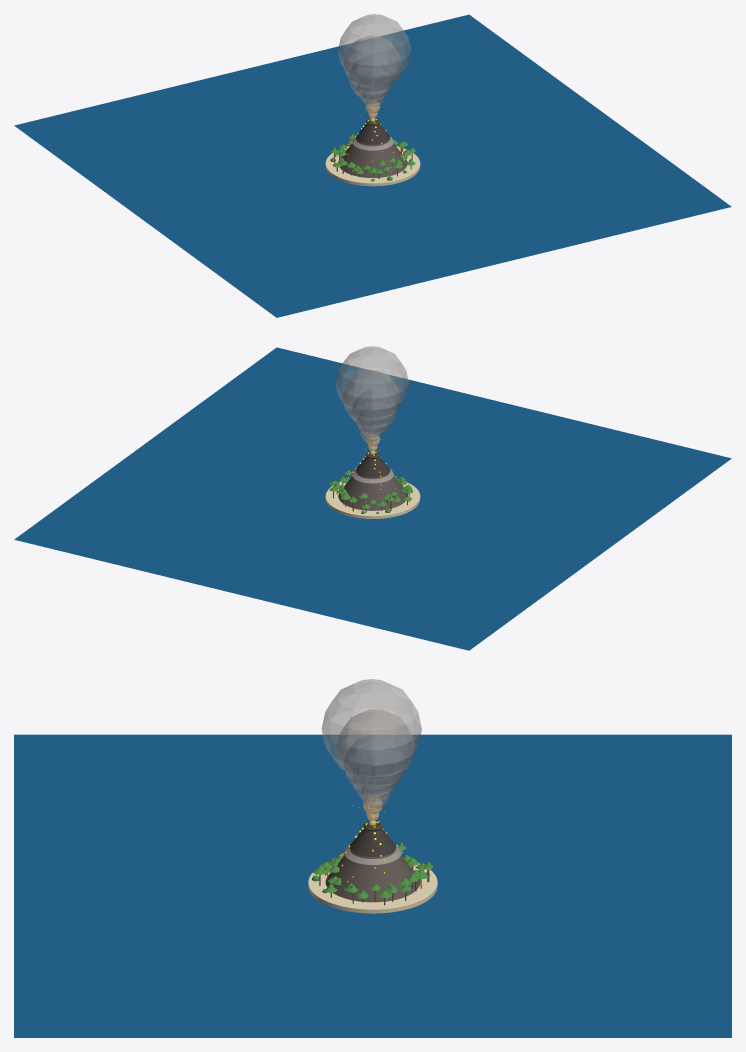
File: volcano_island.glb
3 renders of one model, top to bottom at view 1: azimuth 30°, elevation 25°; view 2: azimuth 150°, elevation 25°; view 3: azimuth 270°, elevation 25°, orthographic. The views are drawn at different scales.
Parts seen in each view (by area): view 1: Ocean, Smoke_7, Smoke_6, VolcanoCone, BeachBase, Smoke_5, UpperCone; view 2: Ocean, Smoke_7, Smoke_6, VolcanoCone, BeachBase, Smoke_5, UpperCone; view 3: Ocean, Smoke_7, Smoke_6, VolcanoCone, BeachBase, Smoke_5, UpperCone.
Boxes of the visible parts, x1,y1,x2,y2 form: Ocean: (14,14,731,317); Smoke_7: (338,14,411,86); Smoke_6: (344,35,400,92); VolcanoCone: (339,140,407,177); BeachBase: (325,146,420,186); Smoke_5: (349,56,392,99); UpperCone: (356,120,389,144); Ocean: (14,347,731,650); Smoke_7: (335,346,408,417); Smoke_6: (343,370,399,426); VolcanoCone: (338,472,406,510); BeachBase: (325,479,420,518); Smoke_5: (352,389,396,433); UpperCone: (356,453,389,477); Ocean: (14,734,731,1037); Smoke_7: (321,679,421,778); Smoke_6: (336,709,414,787); VolcanoCone: (325,850,419,902); BeachBase: (308,861,437,913); Smoke_5: (344,734,403,794); UpperCone: (349,823,396,856).
Bounding box in the file's own units: 200 × 62.5 × 200.
